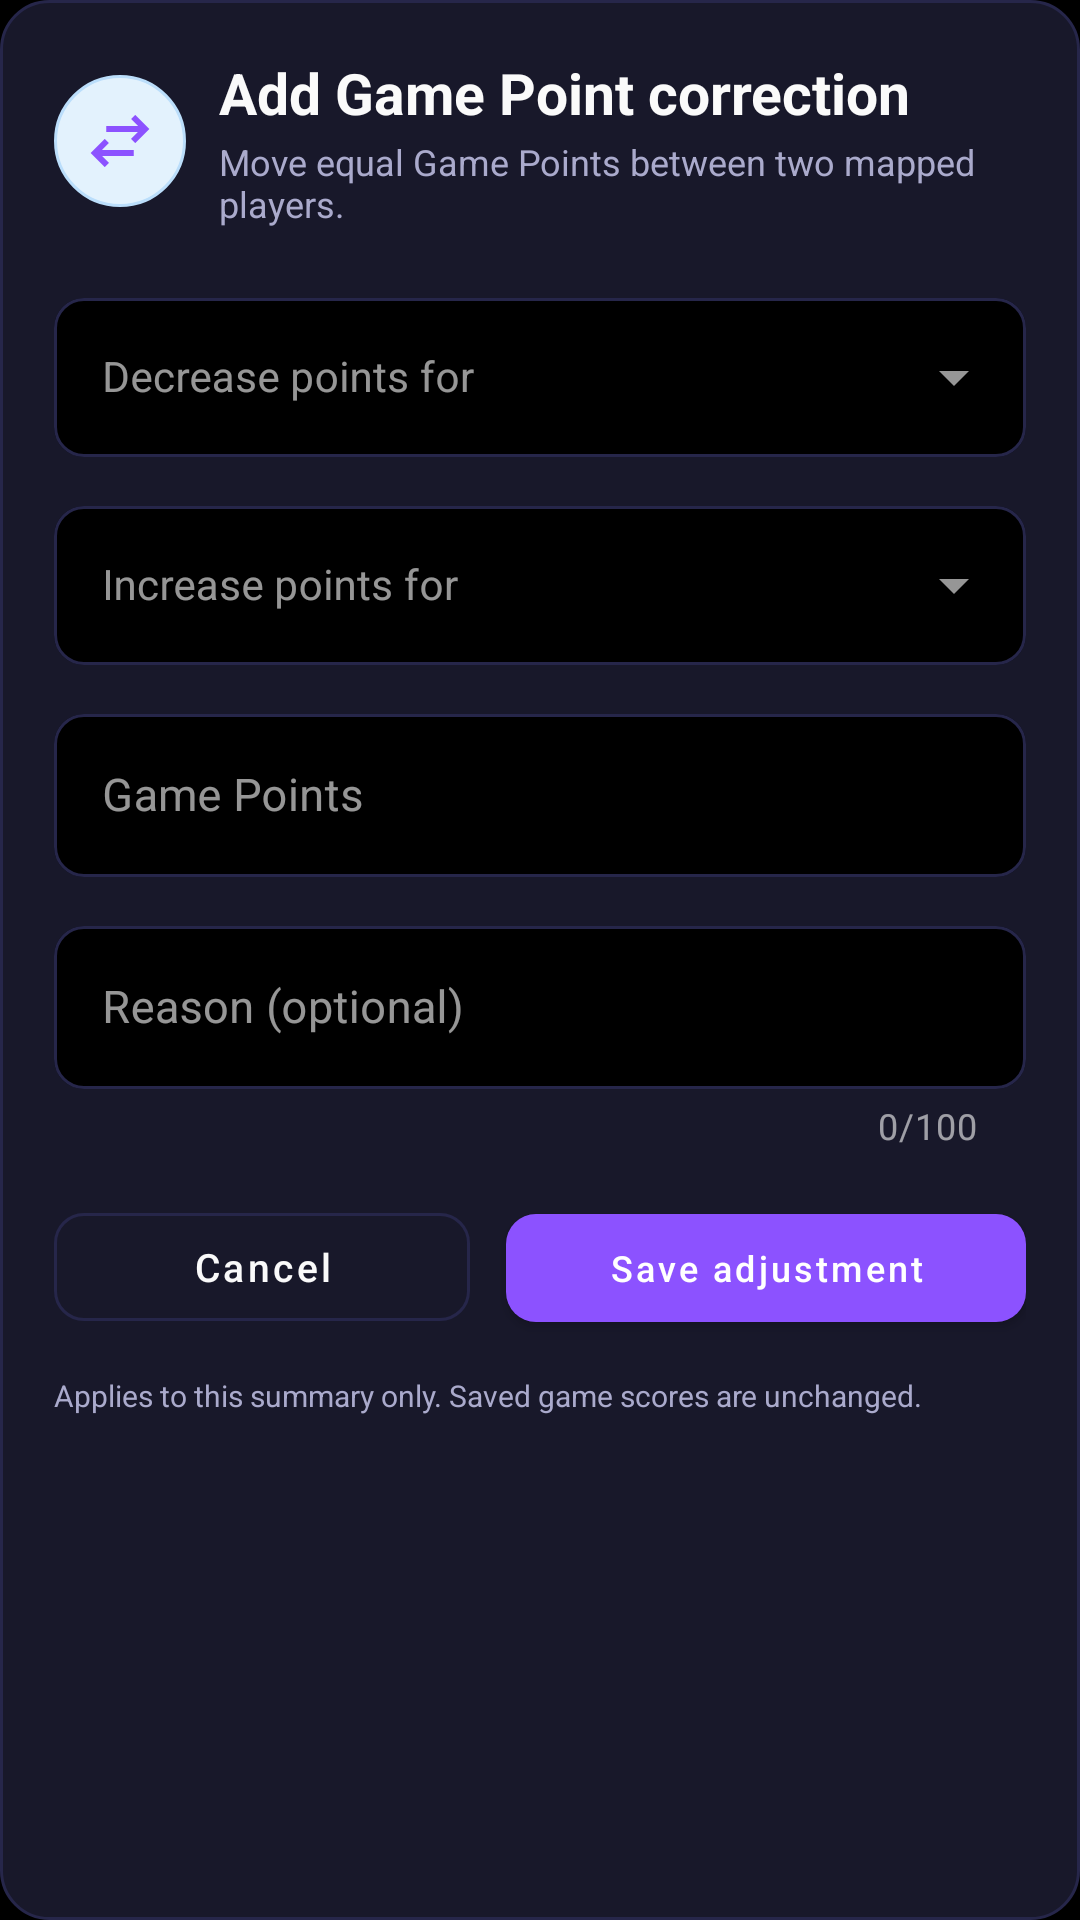

Where to tap for icons on this 1080px×1920px app screen, as [x,y]:
balance adjustment: [120,141]
